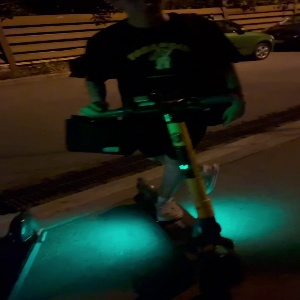human on a scooter: (64, 1, 258, 295)
